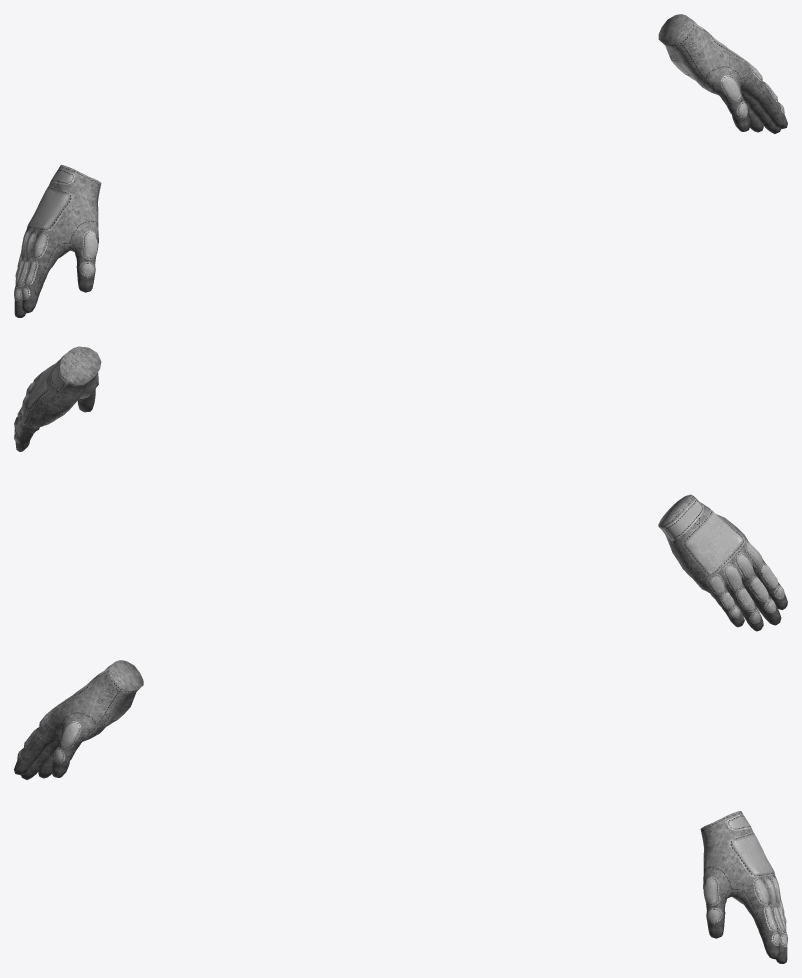
The model's file is SurvivorMale_Hands_Gloves_Padded_LOD0.glb.
3 renders of one model, top to bottom at view 1: azimuth 30°, elevation 25°; view 2: azimuth 150°, elevation 25°; view 3: azimuth 330°, elevation 25°, orthographic.
Parts seen in each view (by area): view 1: Hoodie; view 2: Hoodie; view 3: Hoodie.
Boxes of the visible parts, x1,y1,x2,y2 form: Hoodie: (14, 14, 787, 317); Hoodie: (14, 346, 787, 631); Hoodie: (14, 660, 787, 963).
Bounding box in the file's own units: 1.34 × 0.2046 × 0.1619.
Materials: 1 (1 with a texture image).
